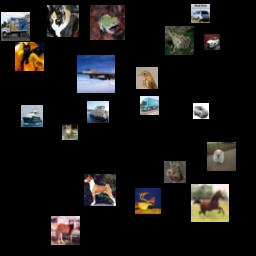airplane: (77, 55, 115, 93)
automobile: (191, 4, 210, 23), (204, 34, 220, 50), (193, 103, 209, 119)
bird: (136, 67, 158, 89)
cat: (47, 5, 79, 37), (15, 42, 44, 71), (164, 161, 186, 183), (62, 124, 78, 140)
deer: (135, 188, 161, 214)
dog: (84, 174, 116, 206), (207, 142, 236, 171)
frog: (90, 5, 125, 40), (165, 26, 194, 55)
ship: (21, 105, 43, 127), (87, 101, 109, 123)
truck: (1, 12, 30, 41), (140, 96, 159, 115)
